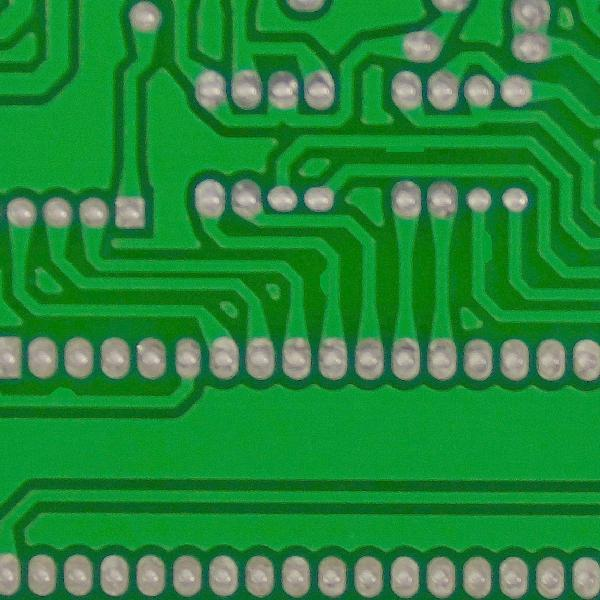spur: (372, 131, 438, 161), (32, 380, 91, 412), (470, 223, 500, 272), (313, 260, 340, 300)
